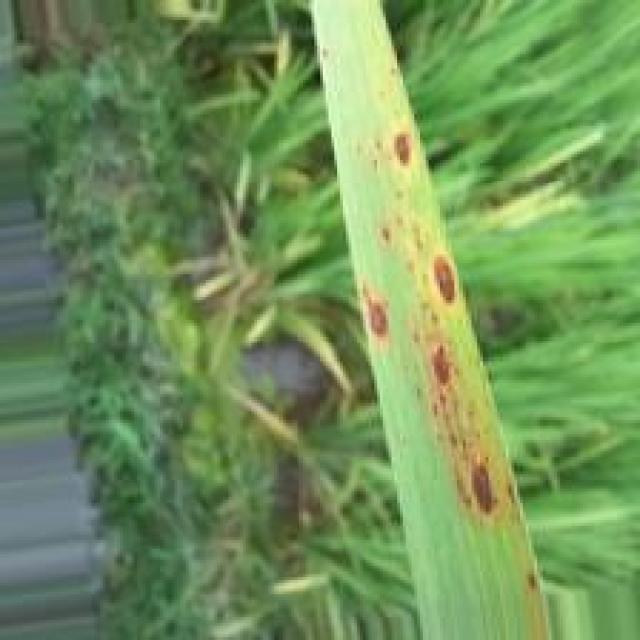Brown_Spot: (357, 279, 392, 341), (427, 249, 462, 307), (425, 337, 457, 393), (466, 459, 494, 519), (388, 128, 413, 171), (524, 572, 540, 593)
